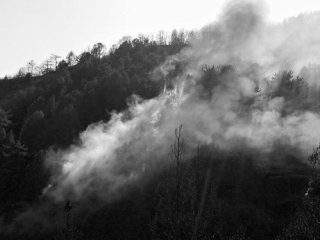smoke: (25, 72, 311, 211), (165, 8, 316, 86)
